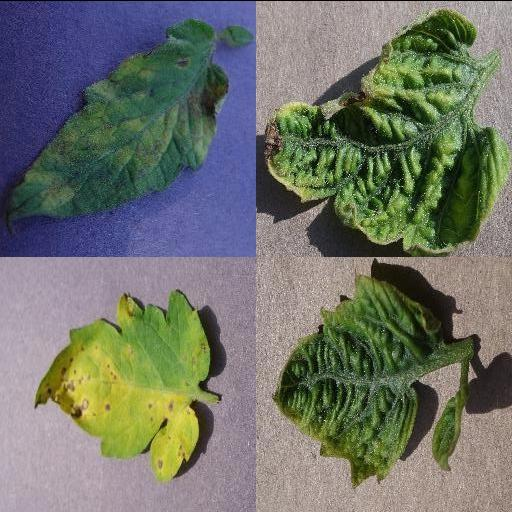Leaf Mold: (4, 14, 230, 224)
Septoria: (35, 288, 213, 479)
Yellow Leaf Curl Virus: (262, 11, 506, 252), (270, 274, 446, 490), (428, 391, 470, 471)
